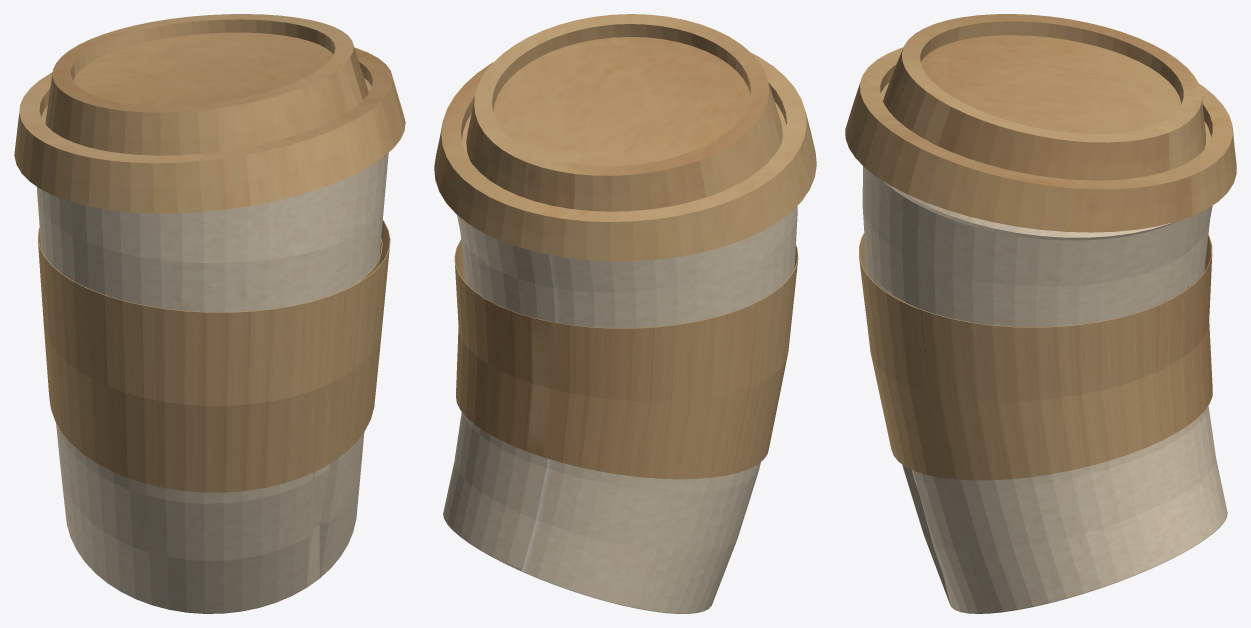
File: bend_low_1.obj
3 renders of one model, left to right at view 1: azimuth 30°, elevation 25°; view 2: azimuth 150°, elevation 25°; view 3: azimuth 270°, elevation 25°, orthographic. The views are drawn at different scales.
Parts seen in each view (by area): view 1: model; view 2: model; view 3: model.
Boxes of the visible parts, x1,y1,x2,y2 form: model: (14, 14, 405, 613); model: (434, 14, 816, 613); model: (845, 14, 1236, 613).
Bounding box in the file's own units: 0.0721 × 0.1088 × 0.0717.
Materials: 1 (1 with a texture image).
